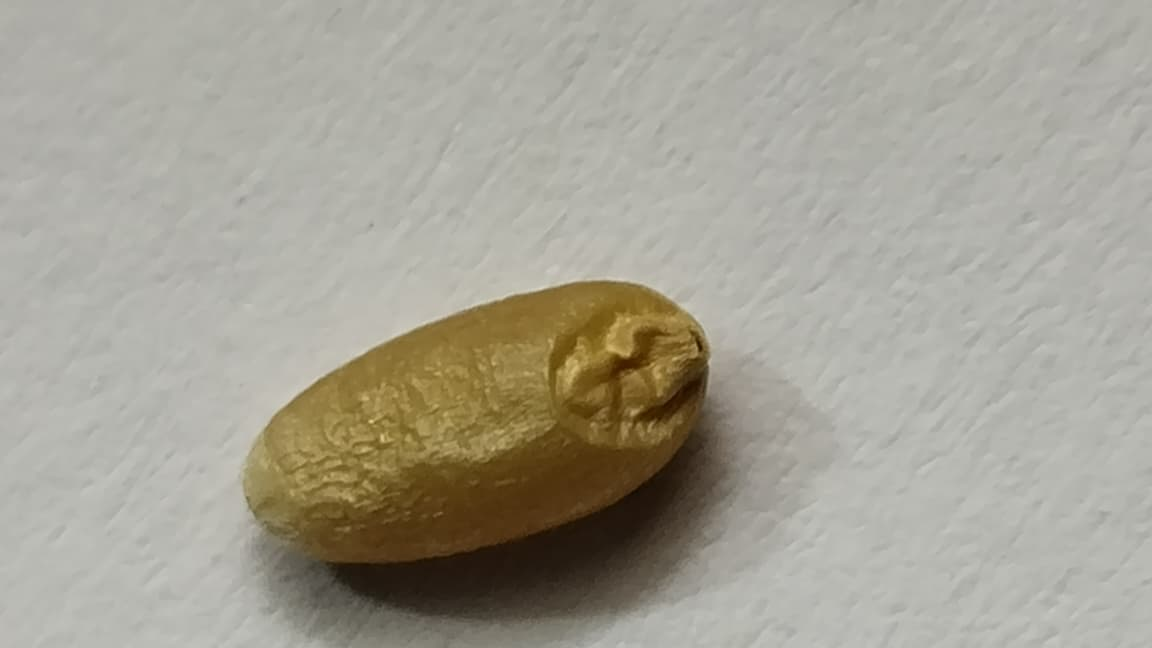healthy: (245, 281, 706, 562)
